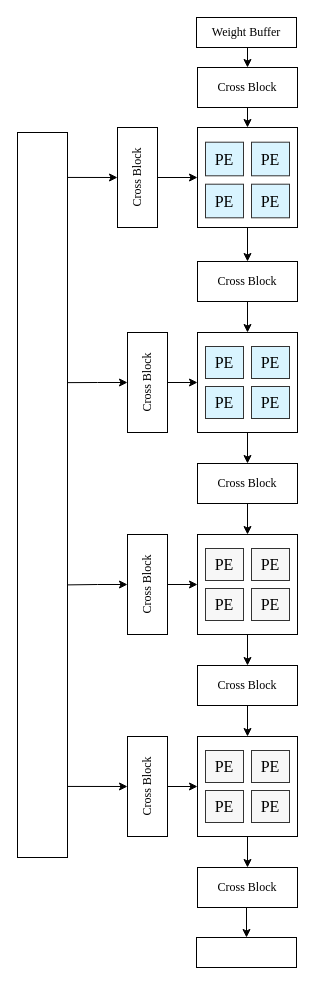
This 315x985 diagram has some shape labels left out. The centre of each missing label's shape, as x and y in pixels:
"input buffer" belongs at [42,495].
"Output Buffer" belongs at [246,952].
